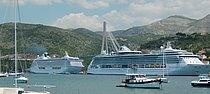Ship: (86, 47, 210, 78), (24, 50, 89, 76)
